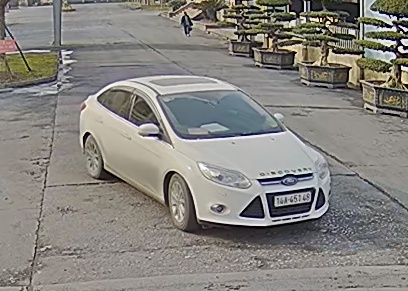vehicle plate: (270, 190, 312, 207)
